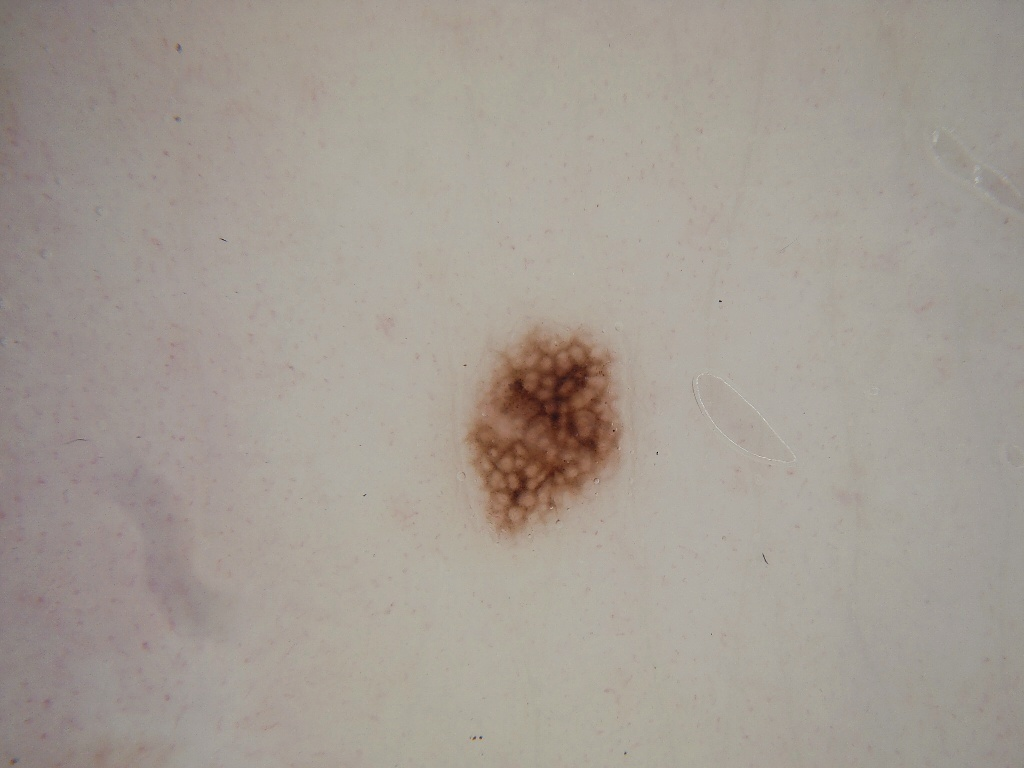Detected Lesion: (458, 325, 633, 544)
